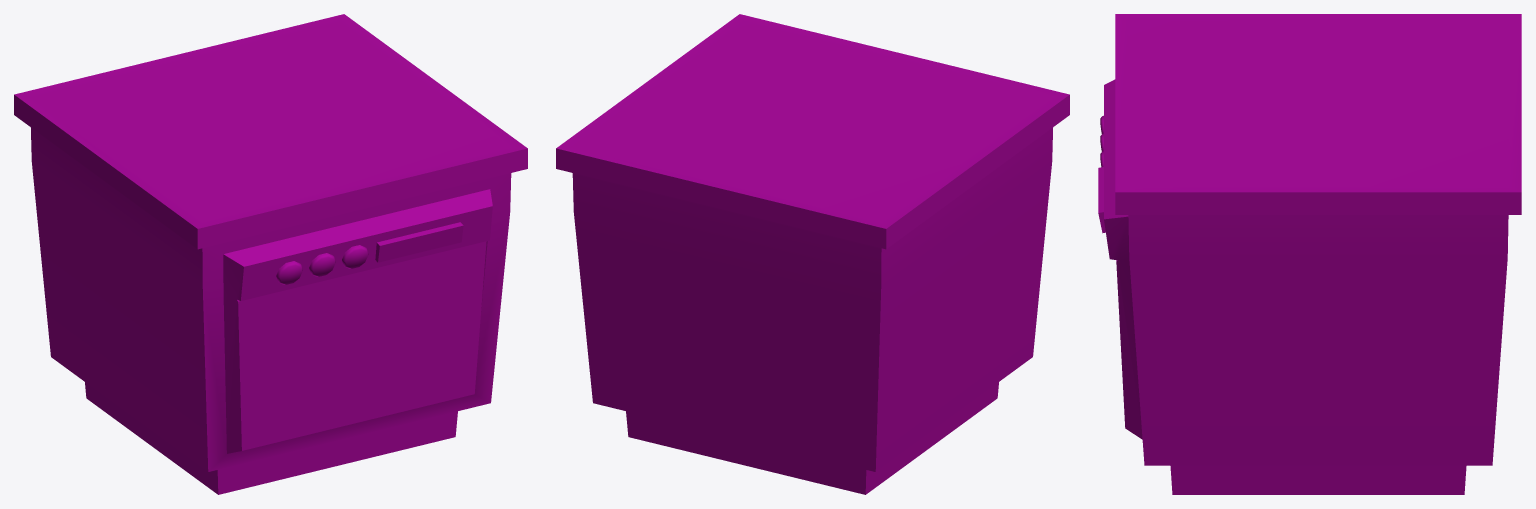
The model's file is Lavastoviglie.fbx.
3 views of the same model, side by side, from view 1: azimuth 30°, elevation 25°; view 2: azimuth 150°, elevation 25°; view 3: azimuth 270°, elevation 25° (orthographic). The views are drawn at different scales.
Visible parts, largest first — view 1: Lavastoviglie1; view 2: Lavastoviglie1; view 3: Lavastoviglie1.
Boxes of the visible parts, left/top/right/bottom form: Lavastoviglie1: left=14, top=14, right=527, bottom=494; Lavastoviglie1: left=556, top=14, right=1069, bottom=494; Lavastoviglie1: left=1098, top=14, right=1521, bottom=494.
Bounding box in the file's own units: 93.66 × 80.3 × 94.01.
